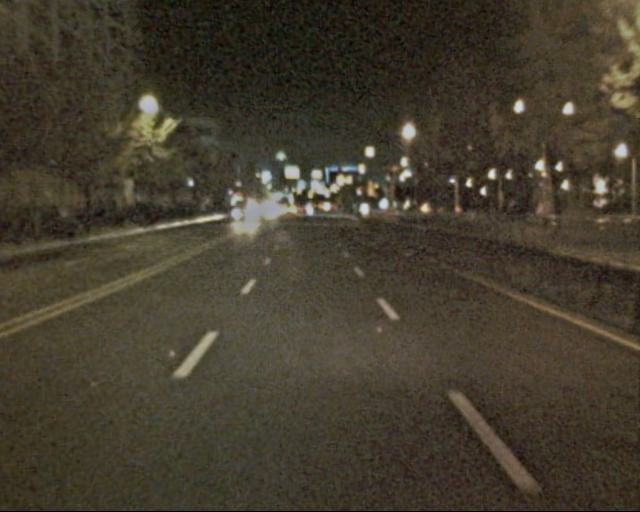person: (514, 186, 535, 236), (499, 188, 521, 232)
